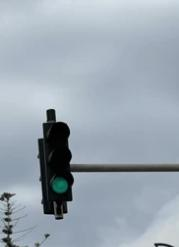green_light: (43, 121, 74, 201)
